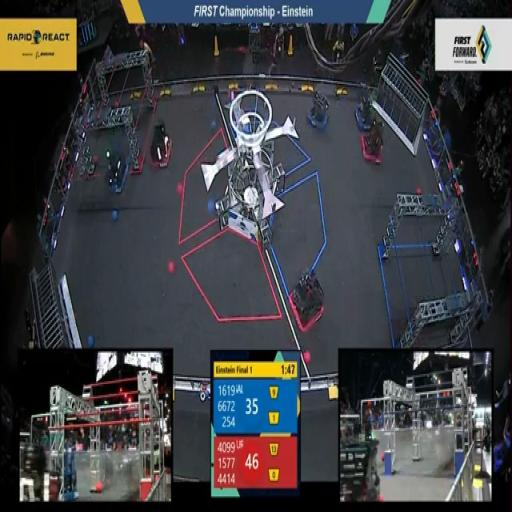robot: (283, 266, 329, 340), (302, 88, 335, 142), (146, 119, 175, 174), (102, 143, 130, 197), (361, 118, 386, 172), (353, 83, 375, 132)
